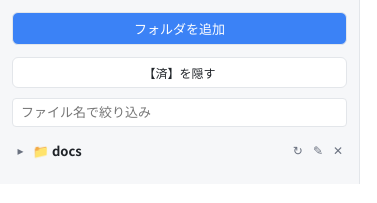
Test case: Sidebar › 表示名の編集を Escape でキャンセルする
Click the button named "docs の表示名を変更" at (318, 150), box [309,142,327,160]
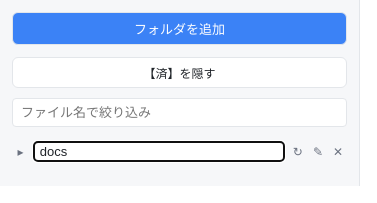
Replace the text in the field named "フォルダの表示名" with "破棄される" at (159, 152), box [33,141,285,162]
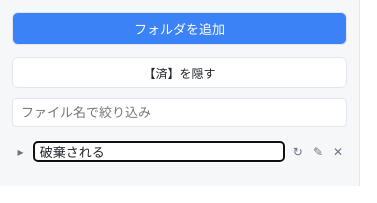
Press Escape in the field named "フォルダの表示名", box [33,141,285,162]
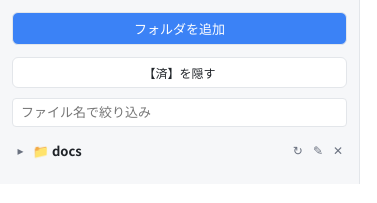
expect the text "📁 docs" is shown: met, box [33,141,82,160]
